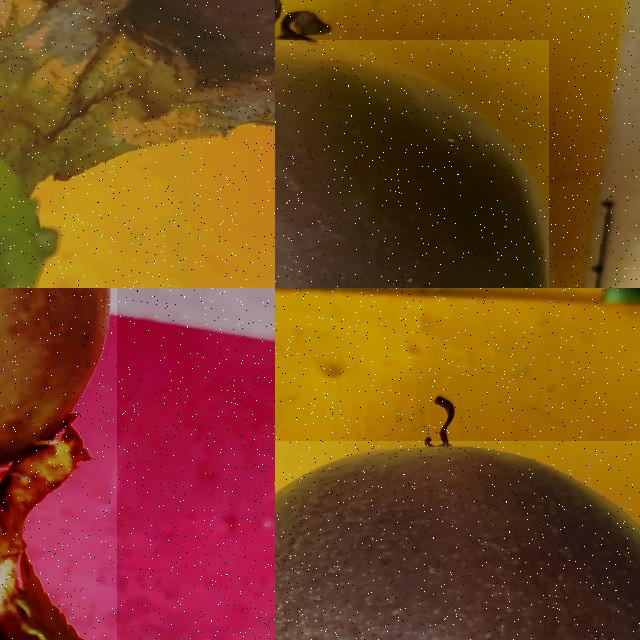Estado-6: (275, 441, 640, 640), (275, 40, 549, 288)
